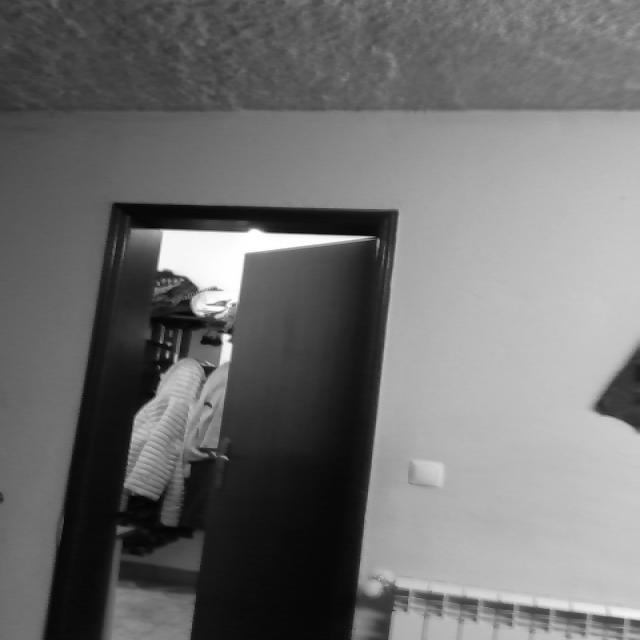door: (187, 234, 386, 640)
